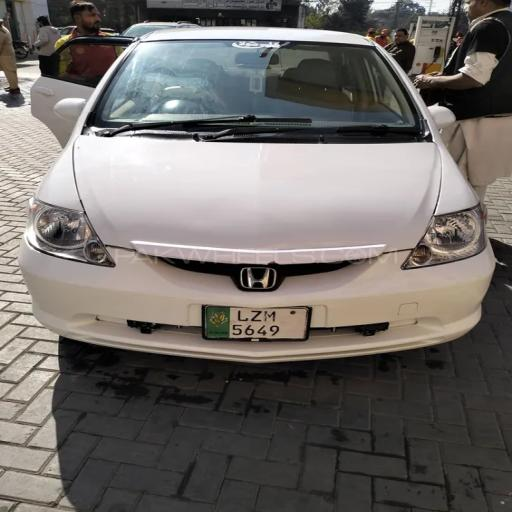number-plates: (202, 304, 302, 338)
